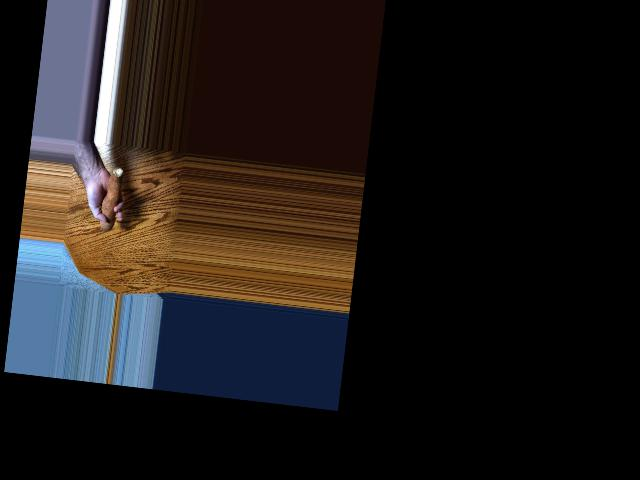sweet_potato: (101, 163, 126, 236)
